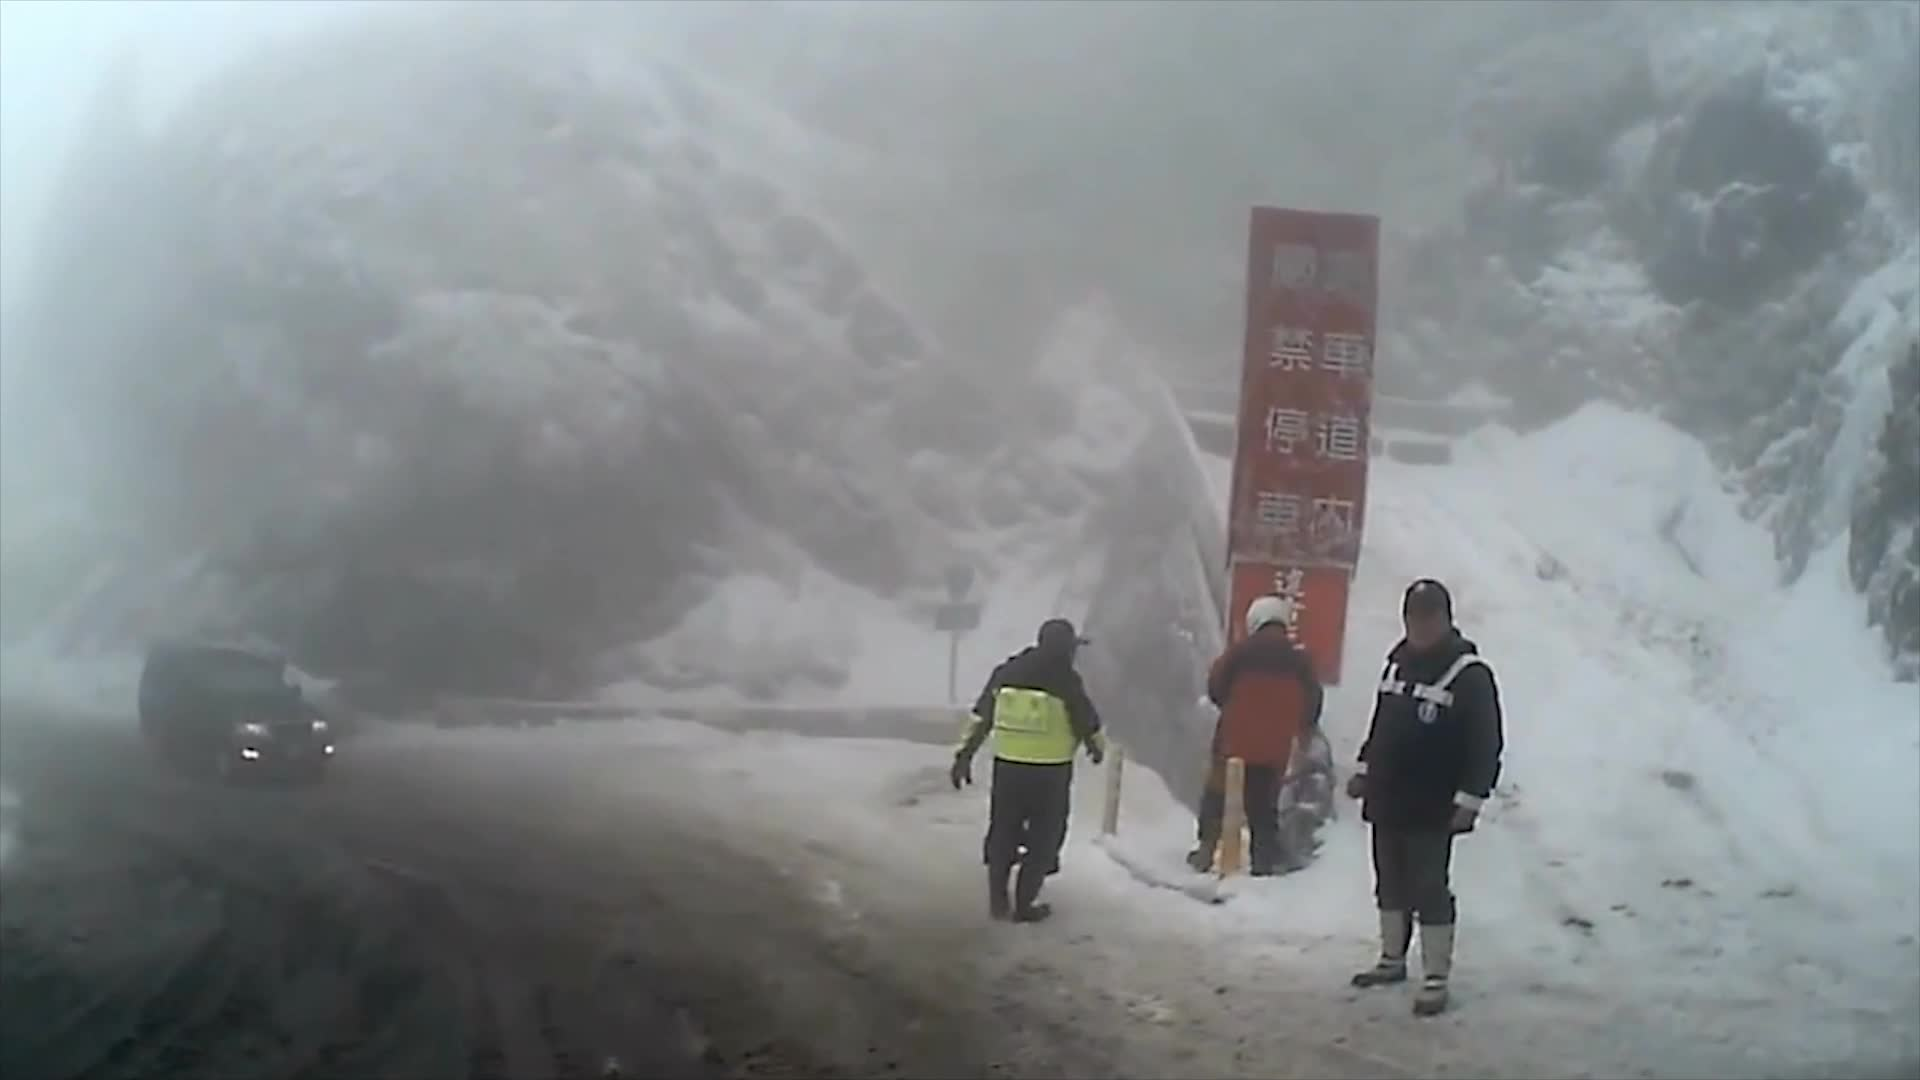pedestrian: (1352, 581, 1509, 1016), (949, 614, 1106, 920), (1187, 598, 1324, 875)
vehicle: (133, 642, 334, 788)
